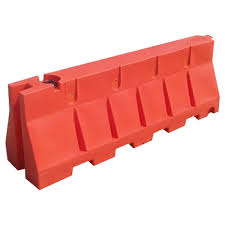barrier: (4, 34, 220, 185)
